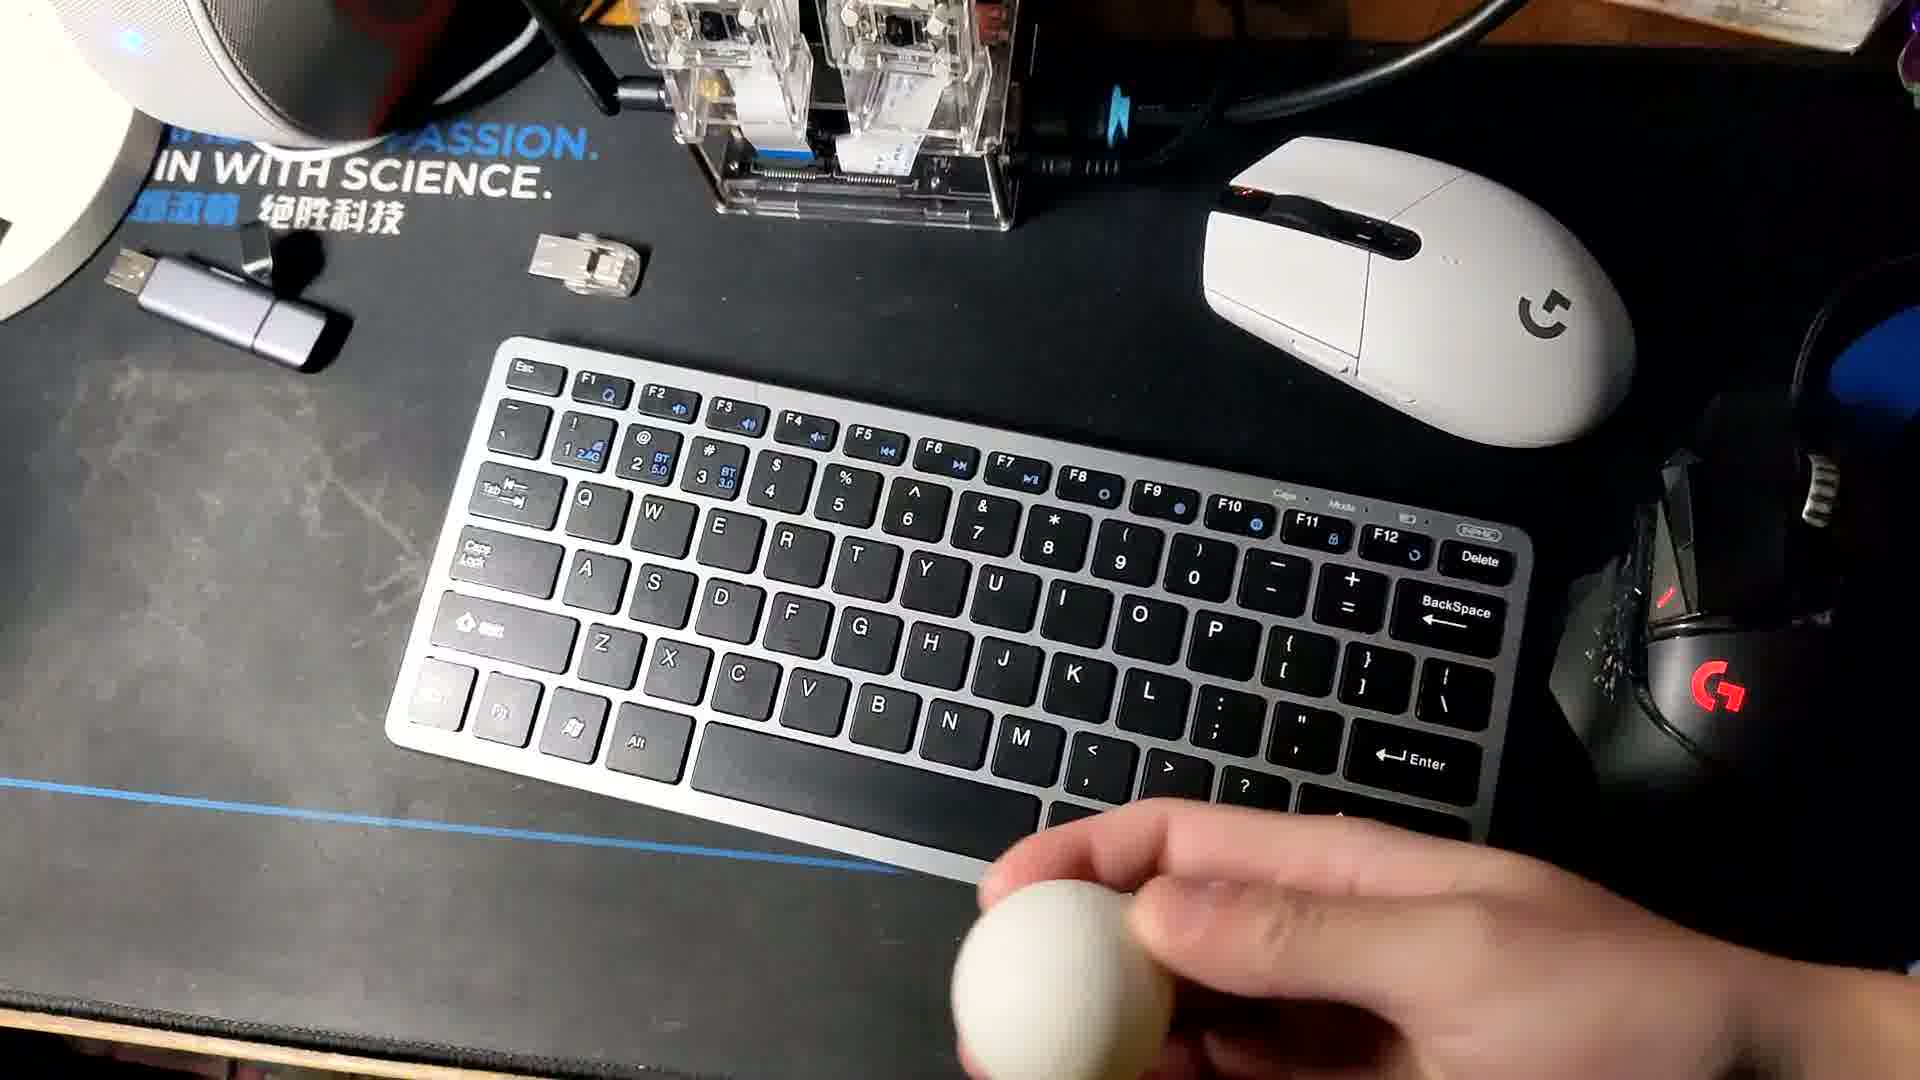Ball: (934, 877, 1179, 1080)
